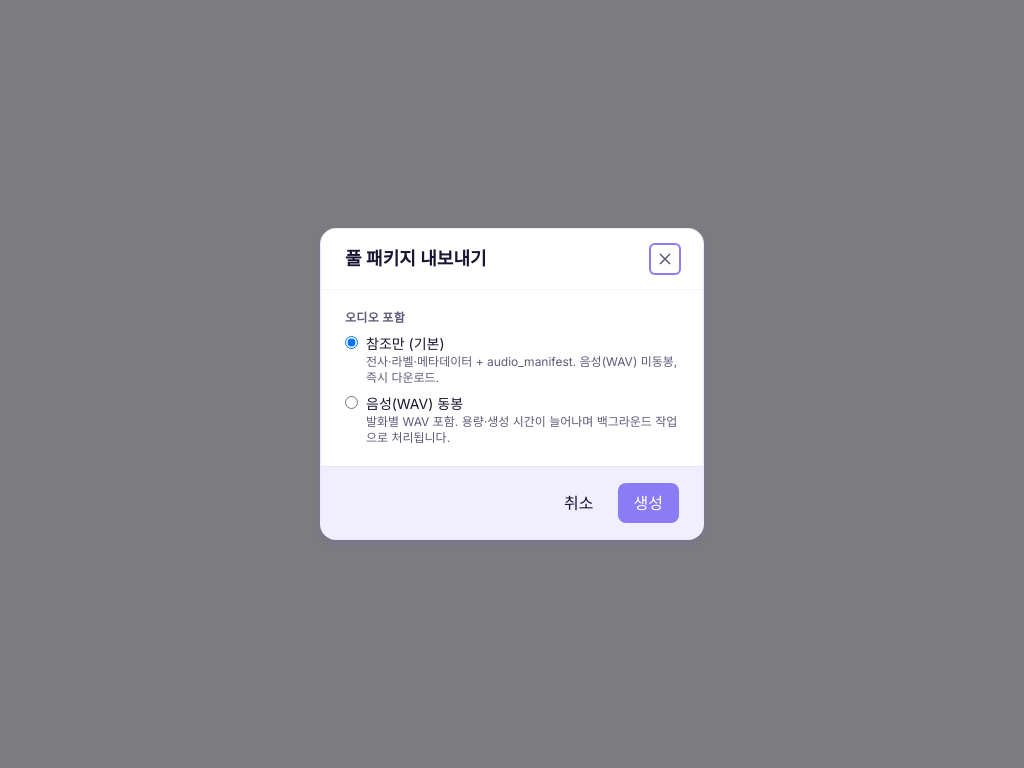
Test: FullPackageExportModal embedded polling › completes normally when job becomes ready before the cap
Click the radio button labelled "음성(WAV) 동봉 발화별 WAV 포함. 용량·생성 시간이 늘어나며 백그라운드 작업으로 처리됩니다." at [352, 402], box left=345, top=396, right=358, bottom=409
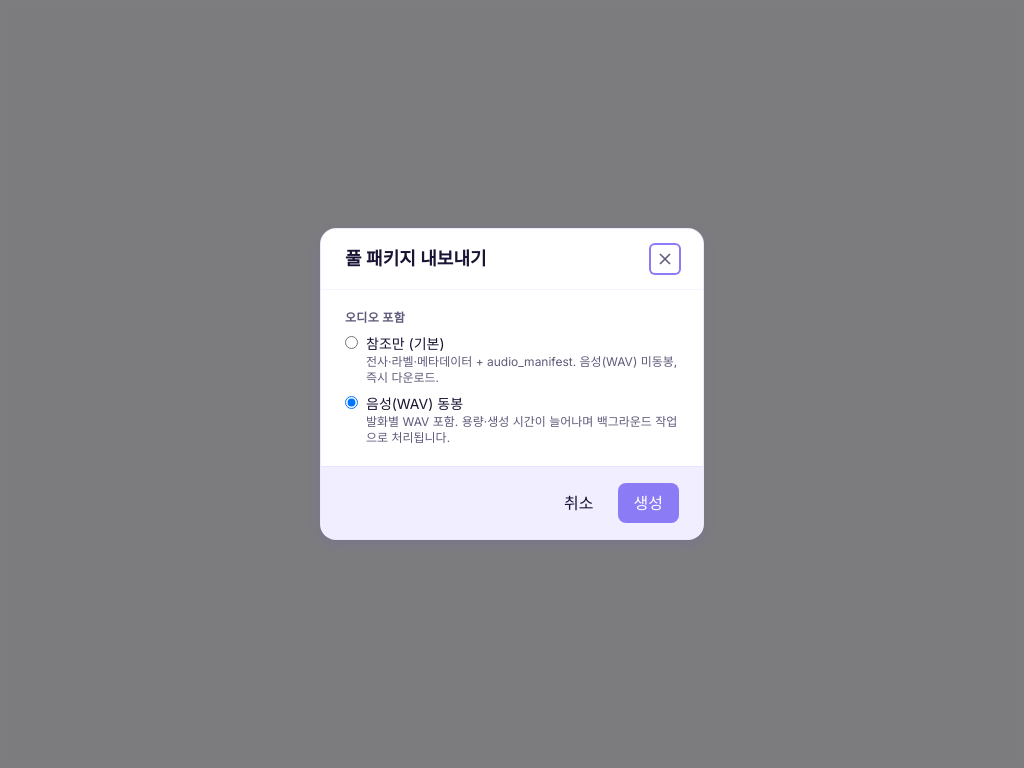
Click the button "생성" at [648, 503], box left=618, top=483, right=679, bottom=523
Wait 4000 ms
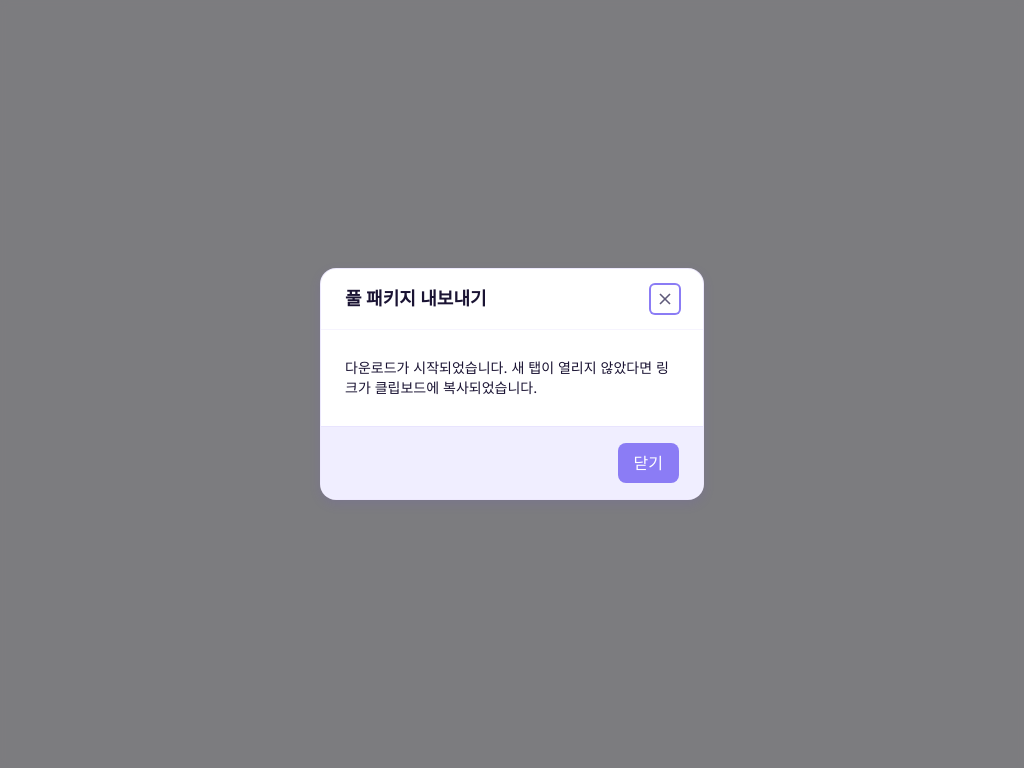
Expected: the text "다운로드가 시작되었습니다. 새 탭이 열리지 않았다면 링크가 클립보드에 복사되었습니다." is shown, left=345, top=350, right=679, bottom=406
